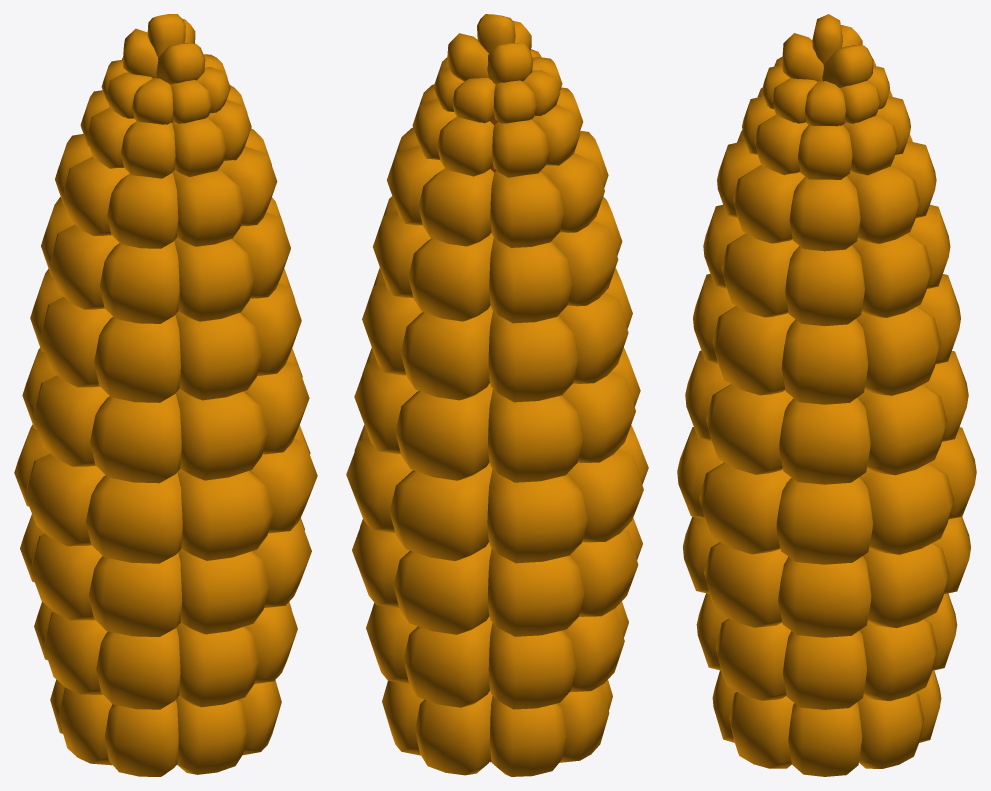
Rendered from Corn_01.fbx.
3 views of the same model, side by side, from view 1: azimuth 30°, elevation 25°; view 2: azimuth 150°, elevation 25°; view 3: azimuth 270°, elevation 25° (orthographic).
Visible parts, largest first — view 1: Corn_01; view 2: Corn_01; view 3: Corn_01.
Boxes of the visible parts, x1,y1,x2,y2 form: Corn_01: (14, 14, 317, 776); Corn_01: (346, 14, 648, 776); Corn_01: (677, 14, 976, 776).
Size of the model in its own units: 77.74 by 77.79 by 208.
